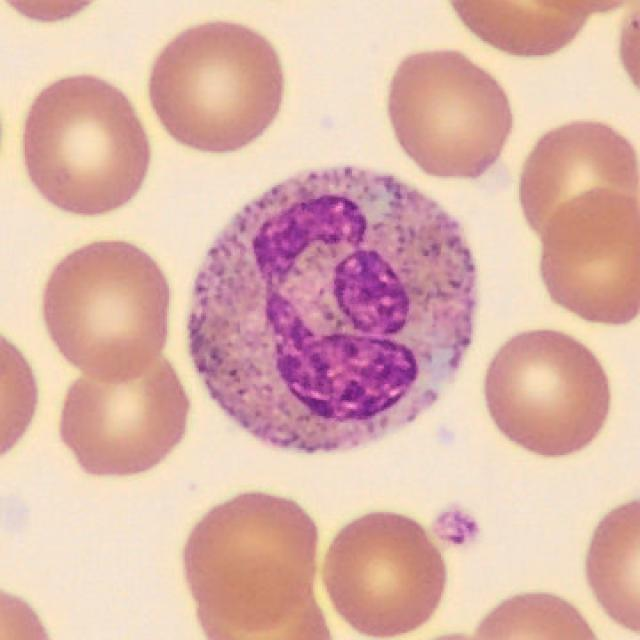Neutrofilo segmentado: (187, 165, 478, 455)
